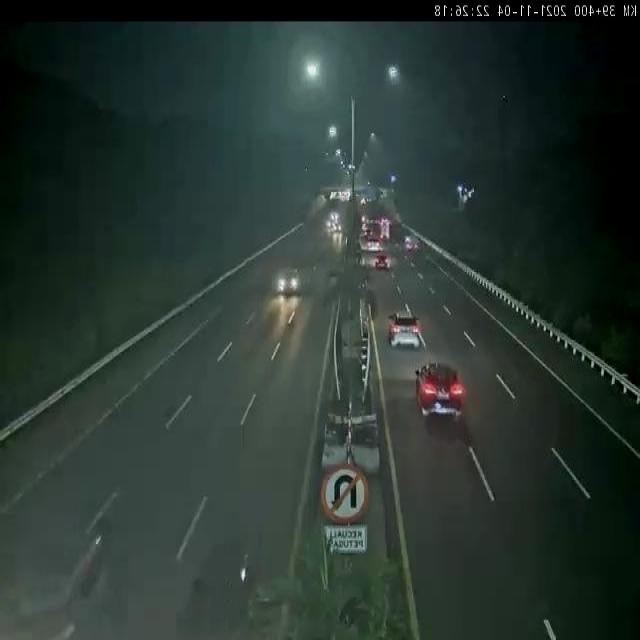Car: (418, 365, 464, 418), (387, 304, 422, 351), (265, 262, 309, 298), (374, 249, 392, 275)
